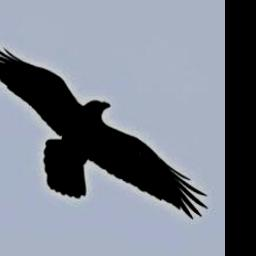Crow: (0, 41, 209, 221)
